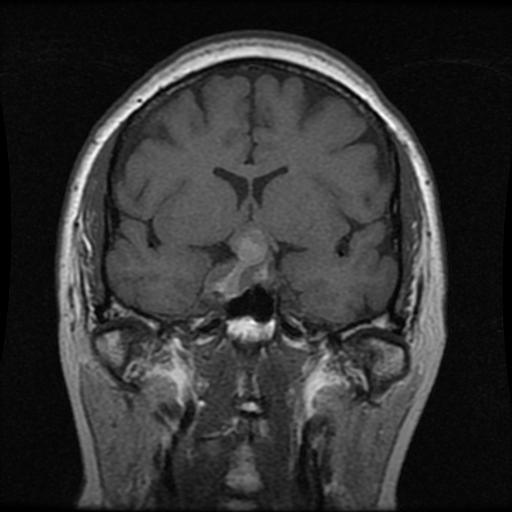Pituirity_tumour: (206, 227, 273, 302)
